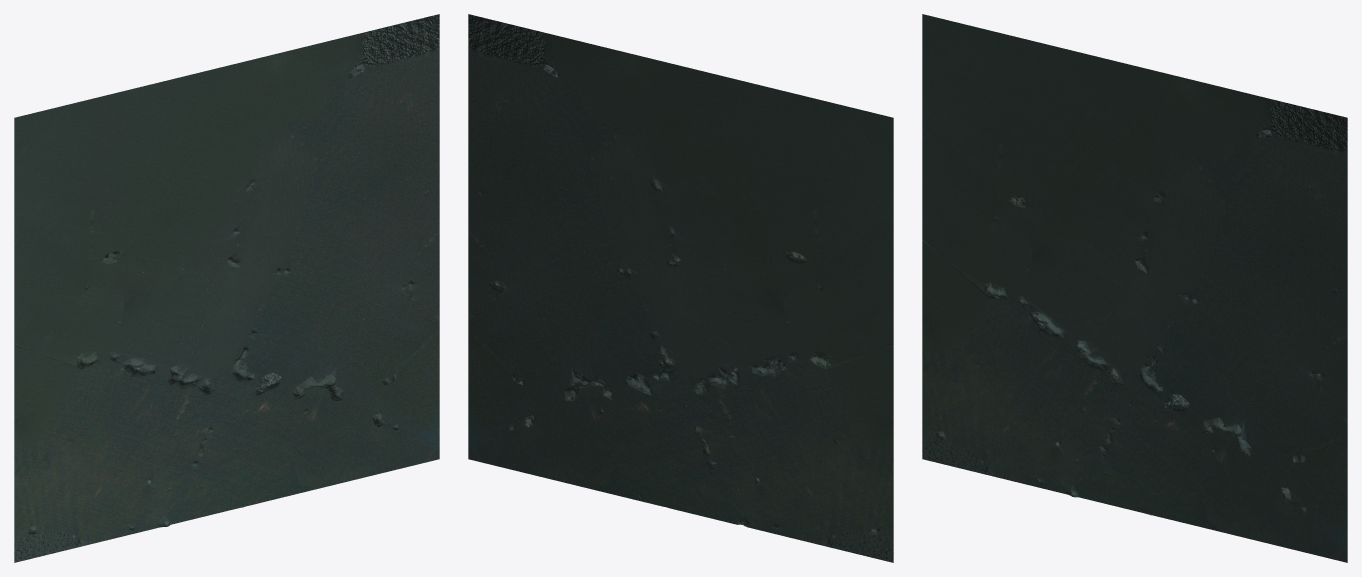
File: Tile_+1996_+2687.obj
The picture shows the model from 3 angles, left to right: view 1: azimuth 30°, elevation 25°; view 2: azimuth 150°, elevation 25°; view 3: azimuth 330°, elevation 25°; orthographic projection.
Bounding box in the file's own units: 252 × 252 × 6.13.
Materials: 1 (1 with a texture image).
